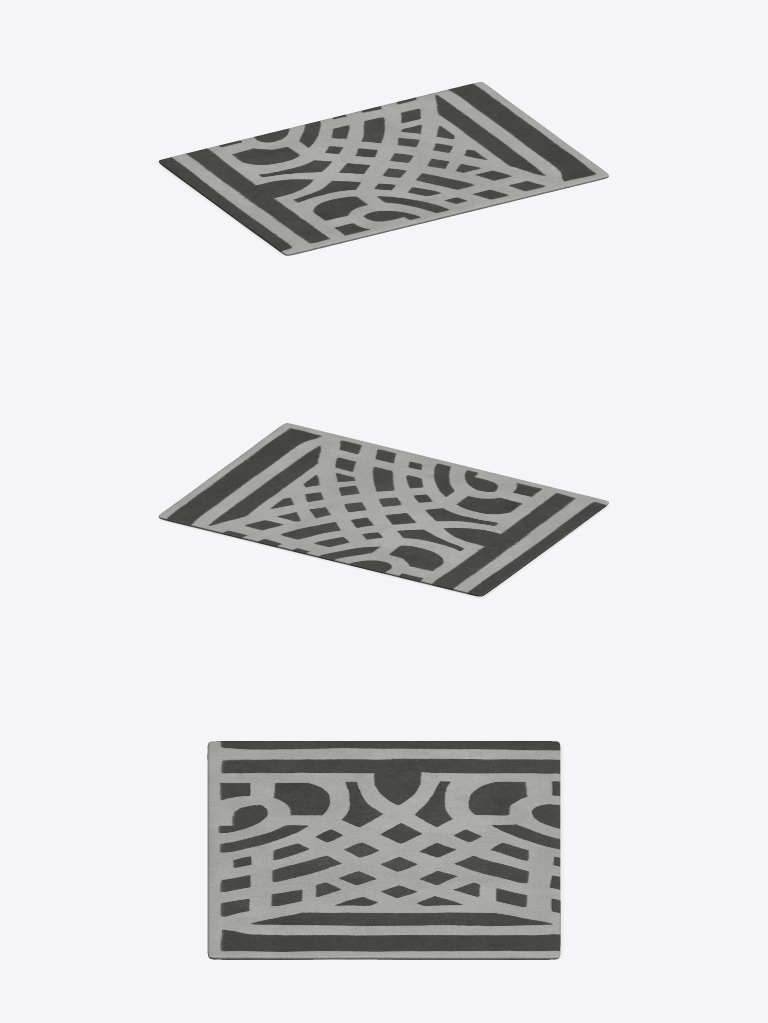
The model's file is paloma_large_wool_rug.glb.
The picture shows the model from 3 angles, top to bottom: view 1: azimuth 30°, elevation 25°; view 2: azimuth 150°, elevation 25°; view 3: azimuth 270°, elevation 25°; orthographic projection. The views are drawn at different scales.
Parts seen in each view (by area): view 1: Paloma_Large_Wool_Rug; view 2: Paloma_Large_Wool_Rug, Plane001; view 3: Paloma_Large_Wool_Rug, Plane001.
Part boxes in pixels (x1=…): Paloma_Large_Wool_Rug: x1=159, y1=82, x2=608, y2=255; Paloma_Large_Wool_Rug: x1=158, y1=423, x2=608, y2=596; Plane001: x1=159, y1=504, x2=609, y2=598; Paloma_Large_Wool_Rug: x1=207, y1=741, x2=560, y2=959; Plane001: x1=219, y1=743, x2=563, y2=959.
Bounding box in the file's own units: 334 × 2.15 × 334.
Materials: 2 (2 with a texture image).
